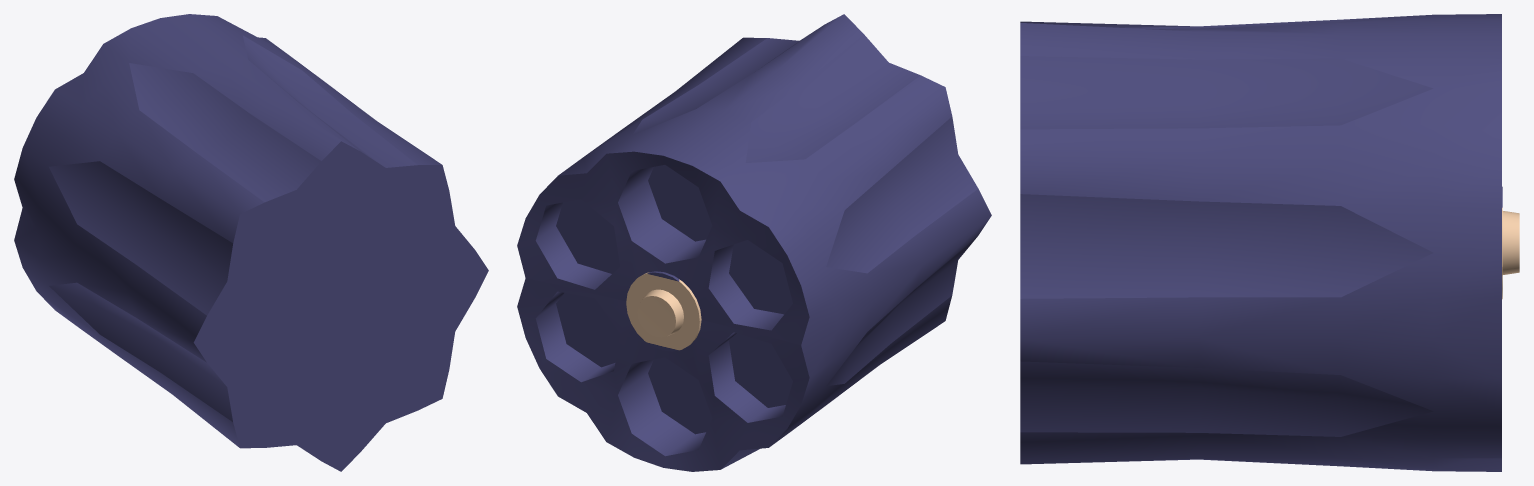
Rendered from Revolver Chamber_UV_remesh.fbx.
3 views of the same model, side by side, from view 1: azimuth 30°, elevation 25°; view 2: azimuth 150°, elevation 25°; view 3: azimuth 270°, elevation 25° (orthographic). The views are drawn at different scales.
Parts seen in each view (by area): view 1: Cylinder; view 2: Cylinder; view 3: Cylinder.
Part boxes in pixels (bbox=[...]): Cylinder: bbox=[14, 14, 488, 471]; Cylinder: bbox=[517, 14, 991, 471]; Cylinder: bbox=[1020, 14, 1519, 471].
Bounding box in the file's own units: 195 × 207 × 212.
